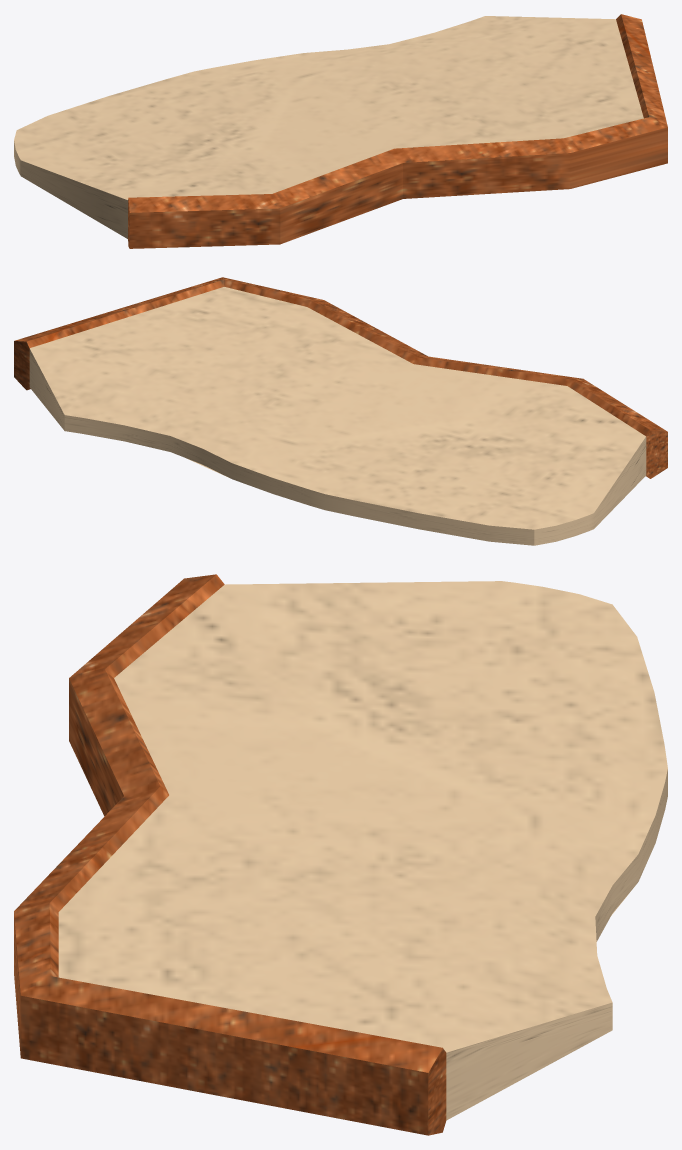
File: FilletA.fbx
3 renders of one model, top to bottom at view 1: azimuth 30°, elevation 25°; view 2: azimuth 150°, elevation 25°; view 3: azimuth 270°, elevation 25°, orthographic. The views are drawn at different scales.
Parts seen in each view (by area): view 1: FilletA; view 2: FilletA; view 3: FilletA.
Part boxes in pixels (x1,y1,x2,y2): FilletA: (14, 14, 667, 248); FilletA: (14, 277, 667, 545); FilletA: (14, 574, 667, 1135).
Size of the model in its own units: 109 by 8.44 by 59.03.
